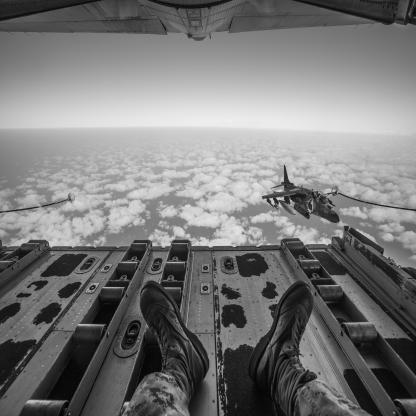AV8B: (263, 165, 341, 224)
